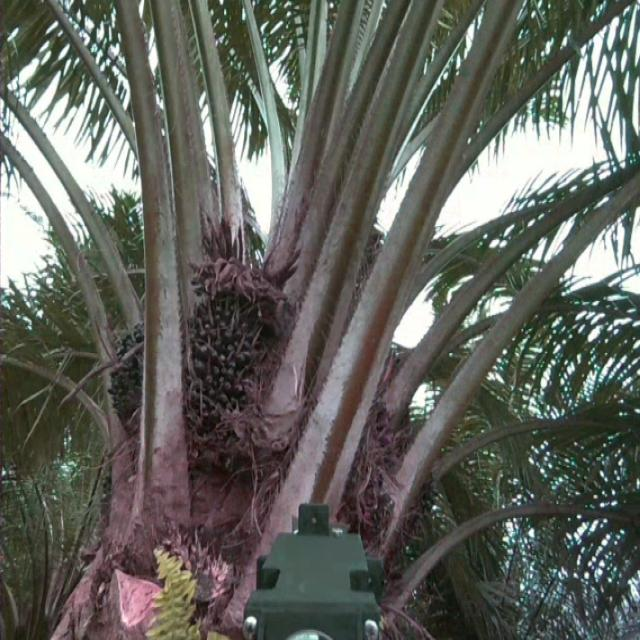palm-oil: (182, 266, 277, 462), (330, 407, 406, 544), (108, 308, 164, 457)
